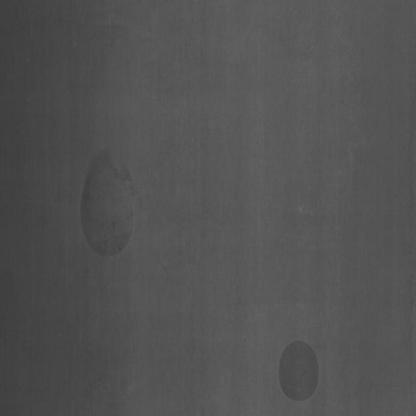oil_spot: (77, 134, 137, 265), (276, 328, 320, 404)
